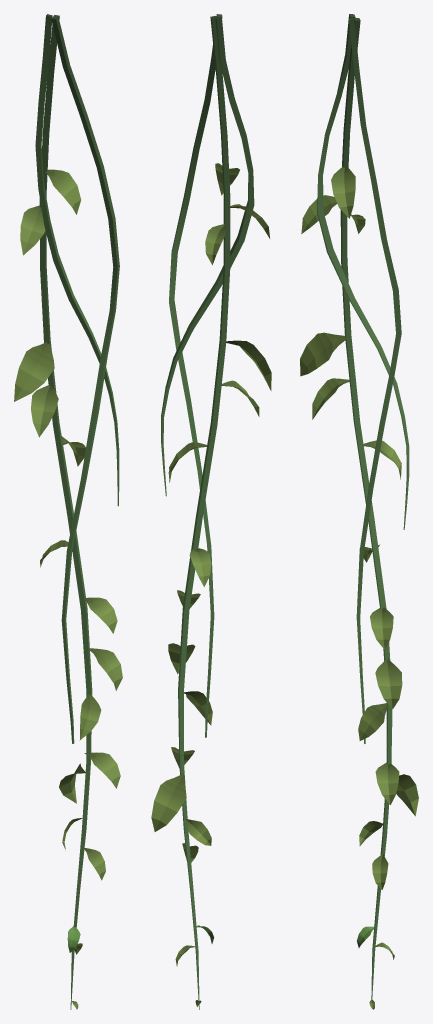
File: Jungle_LeafyVines_B.fbx
3 renders of one model, left to right at view 1: azimuth 30°, elevation 25°; view 2: azimuth 150°, elevation 25°; view 3: azimuth 330°, elevation 25°, orthographic.
Parts seen in each view (by area): view 1: Jungle_LeafyVines_B; view 2: Jungle_LeafyVines_B; view 3: Jungle_LeafyVines_B.
Boxes of the visible parts, box(x1,y1,x2,y2) form: Jungle_LeafyVines_B: box(14, 14, 122, 1009); Jungle_LeafyVines_B: box(151, 14, 271, 1009); Jungle_LeafyVines_B: box(300, 14, 418, 1009).
Bounding box in the file's own units: 0.9033 × 8 × 0.5685.
